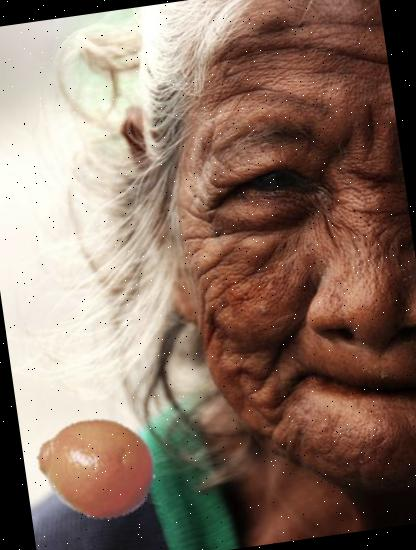Tangelo: (28, 400, 164, 536)
